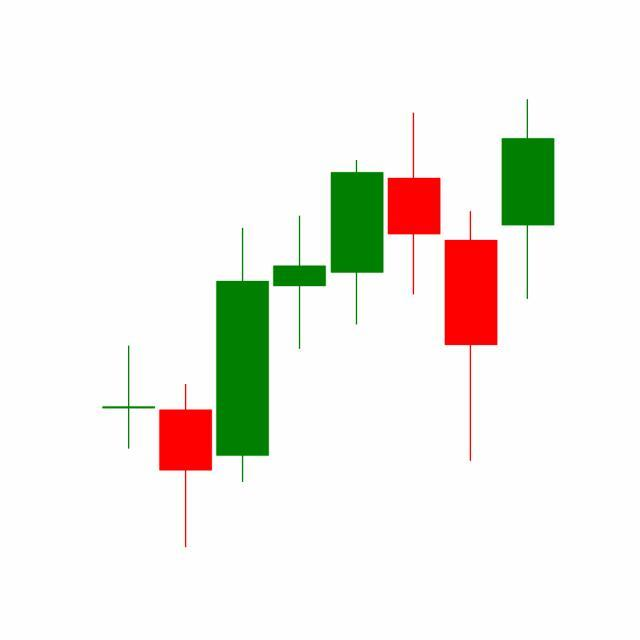Three Inside Up-Down: (328, 109, 500, 466)
